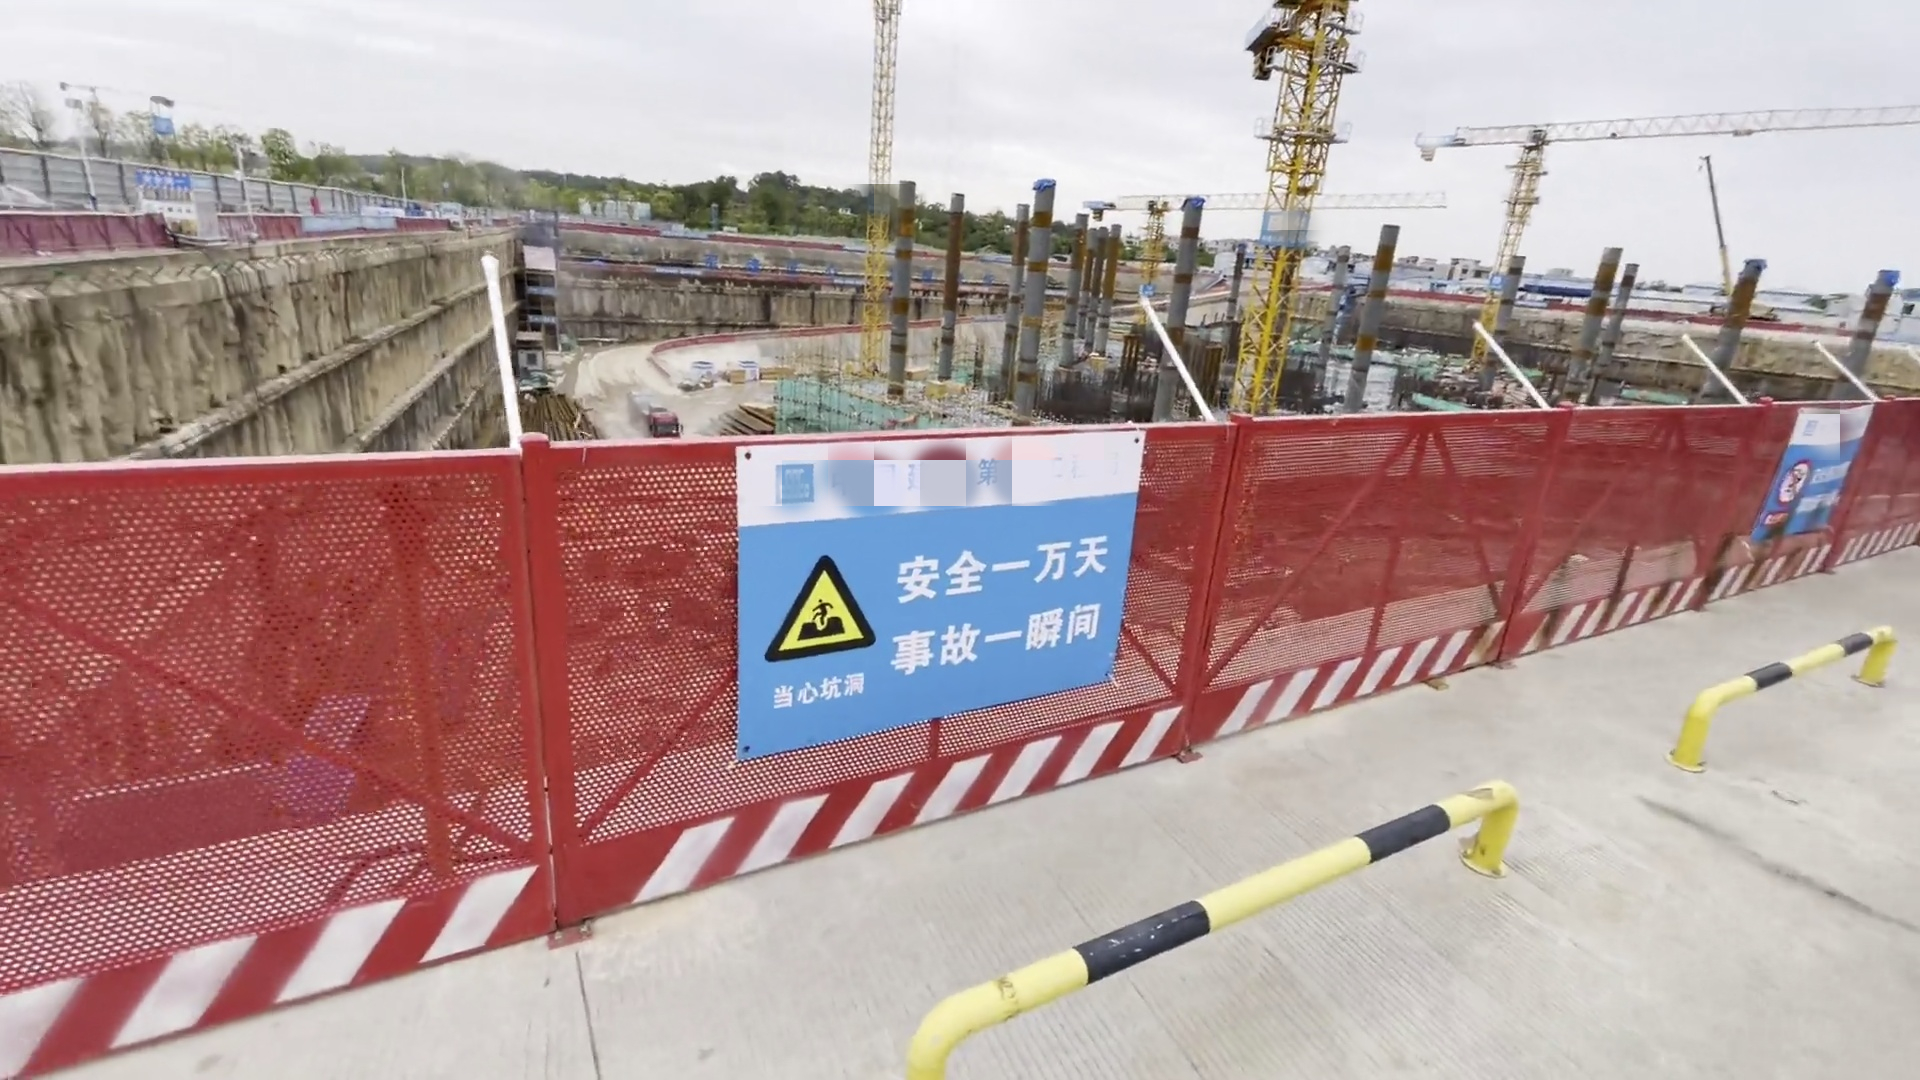fence: (1, 419, 1569, 961), (223, 215, 455, 248), (3, 212, 166, 255)
slogan: (753, 492, 1154, 687), (1753, 407, 1871, 559), (699, 253, 836, 276), (298, 215, 405, 237), (654, 266, 695, 280), (659, 231, 711, 240)
